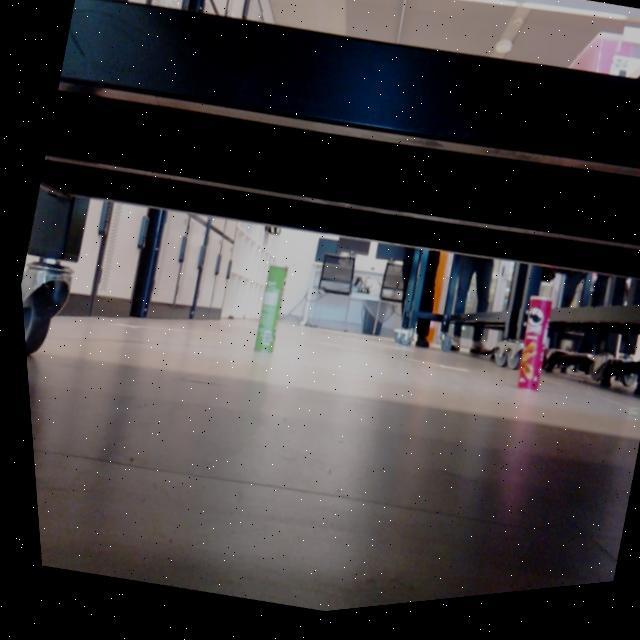greenpringles: (232, 253, 300, 367)
redpringles: (486, 290, 563, 418)
